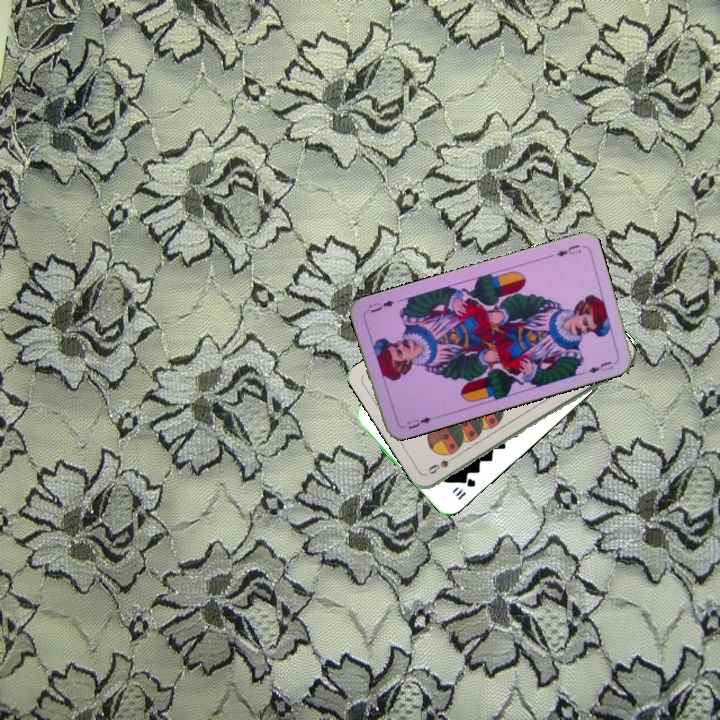EU: (398, 413, 434, 432), (552, 240, 584, 259)
G10: (451, 474, 478, 503)
S9: (424, 450, 461, 477)
